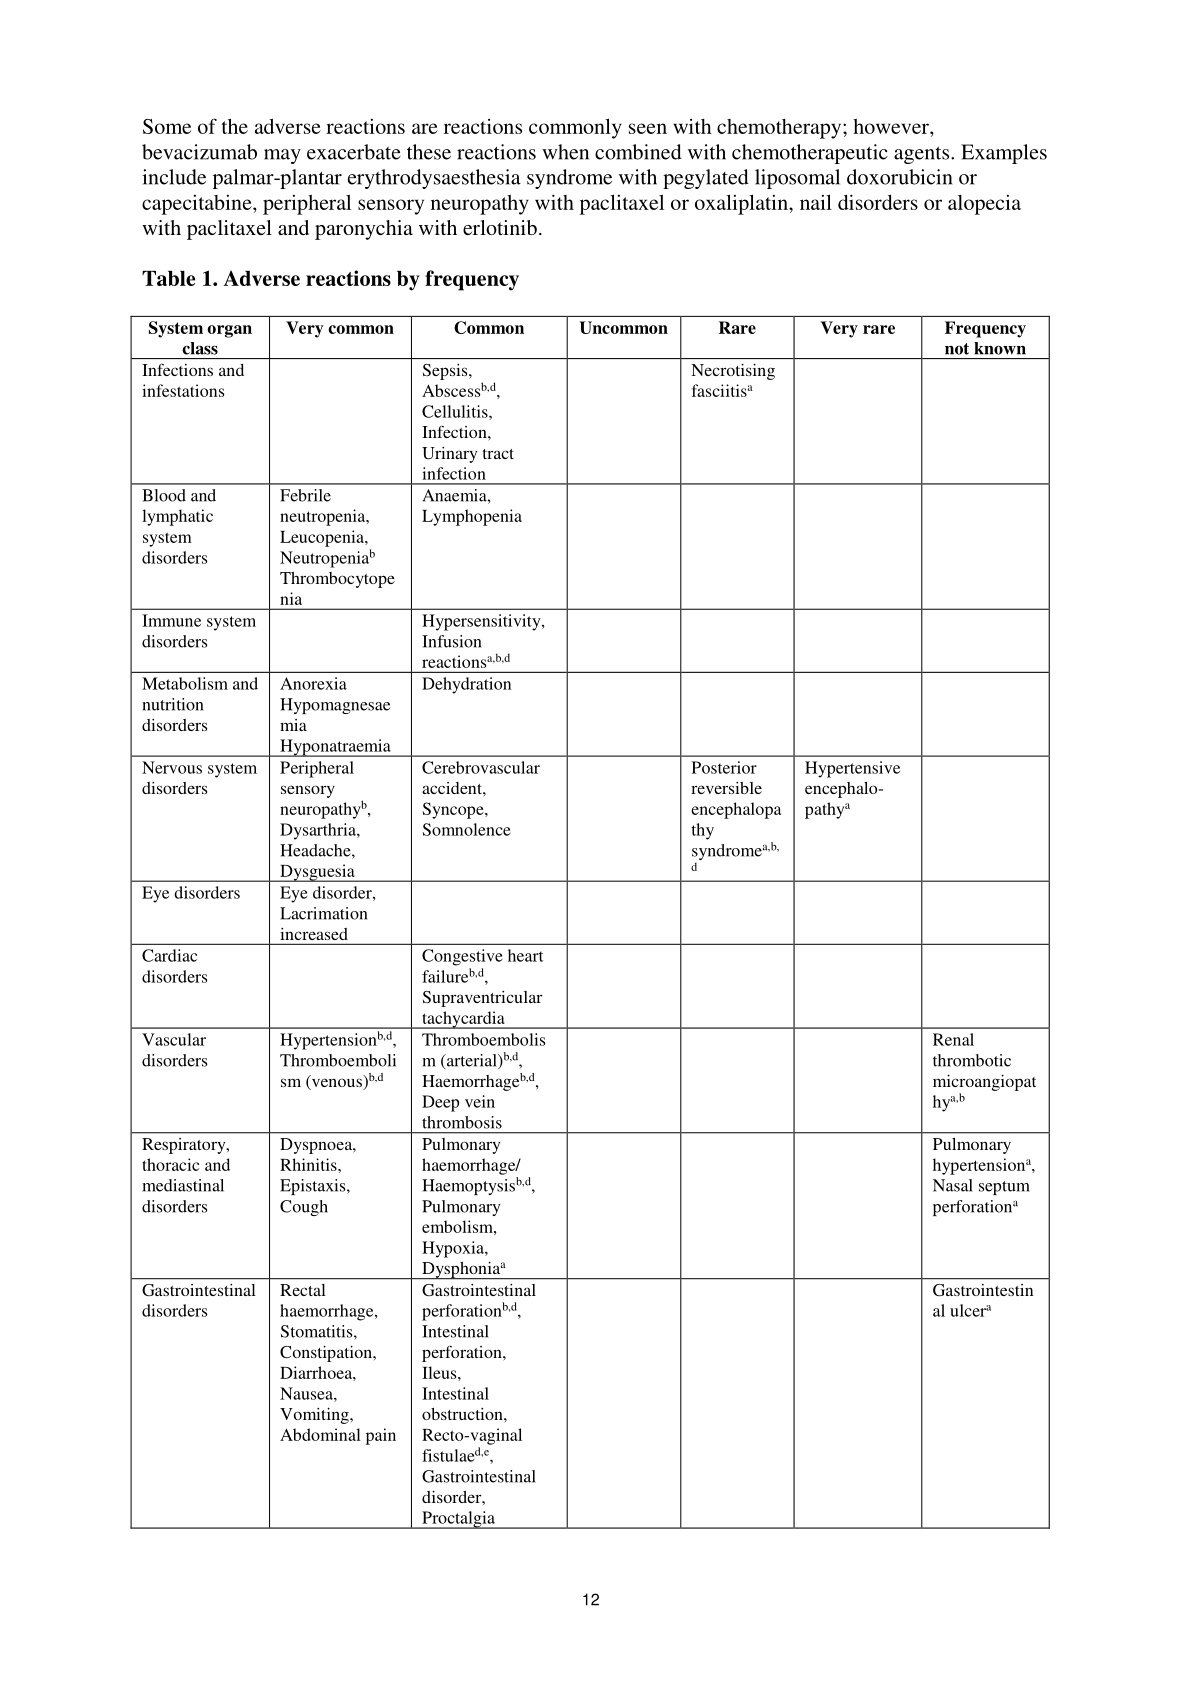full_lined: (130, 315, 1051, 1530)
